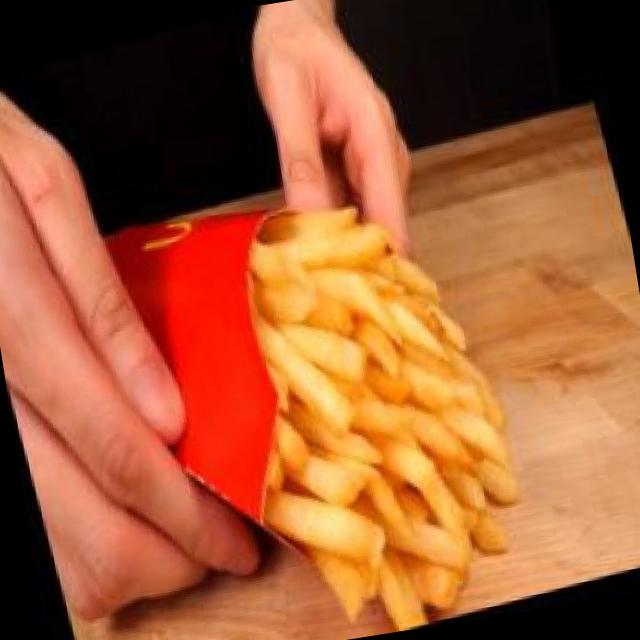french fries: (155, 124, 577, 640)
